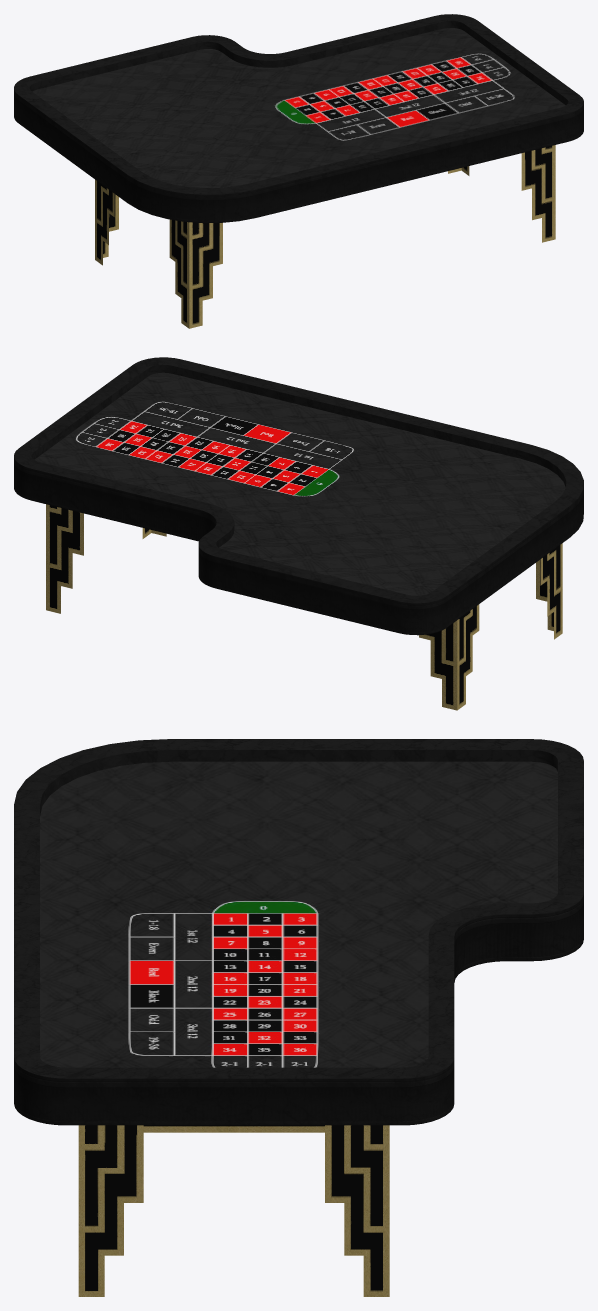
File: roulette_table.glb
3 renders of one model, top to bottom at view 1: azimuth 30°, elevation 25°; view 2: azimuth 150°, elevation 25°; view 3: azimuth 270°, elevation 25°, orthographic. The views are drawn at different scales.
Parts seen in each view (by area): view 1: Table Baked Top, Table Baked, Table Baked Legs, v1_mesh_buttons.2nd, v1_mesh_buttons.3rd, v1_mesh_buttons.1st, v1_mesh_buttons.000, v1_mesh_buttons.even, v1_mesh_buttons.odd, v1_mesh_buttons.high, v1_mesh_buttons.red, v1_mesh_buttons.low (+1 smaller); view 2: Table Baked Top, Table Baked, Table Baked Legs, v1_mesh_buttons.1st, v1_mesh_buttons.3rd, v1_mesh_buttons.2nd, v1_mesh_buttons.000, v1_mesh_buttons.red, v1_mesh_buttons.black, v1_mesh_buttons.even, v1_mesh_buttons.odd, v1_mesh_buttons.high (+1 smaller); view 3: Table Baked Top, Table Baked, Table Baked Legs, v1_mesh_buttons.1st, v1_mesh_buttons.2nd, v1_mesh_buttons.3rd, v1_mesh_buttons.000, v1_mesh_buttons.black, v1_mesh_buttons.red, v1_mesh_buttons.even, v1_mesh_buttons.odd, v1_mesh_buttons.low (+1 smaller).
Boxes of the visible parts, box(x1,y1,x2,y2) form: Table Baked Top: box(32, 28, 565, 187); Table Baked: box(14, 14, 583, 223); Table Baked Legs: box(95, 145, 555, 328); v1_mesh_buttons.2nd: box(375, 94, 444, 117); v1_mesh_buttons.3rd: box(434, 80, 503, 102); v1_mesh_buttons.1st: box(317, 109, 385, 131); v1_mesh_buttons.000: box(270, 100, 315, 126); v1_mesh_buttons.even: box(357, 117, 399, 134); v1_mesh_buttons.odd: box(445, 96, 487, 112); v1_mesh_buttons.high: box(475, 89, 516, 105); v1_mesh_buttons.red: box(387, 110, 428, 127); v1_mesh_buttons.low: box(328, 124, 370, 141); Table Baked Top: box(34, 372, 565, 595); Table Baked: box(14, 357, 583, 635); Table Baked Legs: box(46, 504, 562, 710); v1_mesh_buttons.1st: box(263, 444, 341, 468); v1_mesh_buttons.3rd: box(132, 411, 209, 436); v1_mesh_buttons.2nd: box(197, 427, 275, 452); v1_mesh_buttons.000: box(294, 469, 344, 499); v1_mesh_buttons.red: box(243, 424, 290, 443); v1_mesh_buttons.black: box(210, 416, 257, 435); v1_mesh_buttons.even: box(276, 432, 323, 451); v1_mesh_buttons.odd: box(177, 408, 224, 427); v1_mesh_buttons.high: box(144, 400, 191, 419); Table Baked Top: box(40, 761, 557, 1067); Table Baked: box(14, 739, 583, 1125); Table Baked Legs: box(78, 1125, 389, 1296); v1_mesh_buttons.1st: box(175, 913, 212, 960); v1_mesh_buttons.2nd: box(175, 961, 212, 1008); v1_mesh_buttons.3rd: box(175, 1008, 212, 1055); v1_mesh_buttons.000: box(212, 901, 317, 913); v1_mesh_buttons.black: box(130, 984, 174, 1008); v1_mesh_buttons.red: box(130, 961, 174, 984); v1_mesh_buttons.even: box(130, 937, 174, 960); v1_mesh_buttons.odd: box(130, 1008, 174, 1031); v1_mesh_buttons.low: box(130, 913, 174, 936).
Size of what is drawn, in the model's own units: 3.1 by 1 by 2.2.
Materials: 4 (4 with a texture image).
